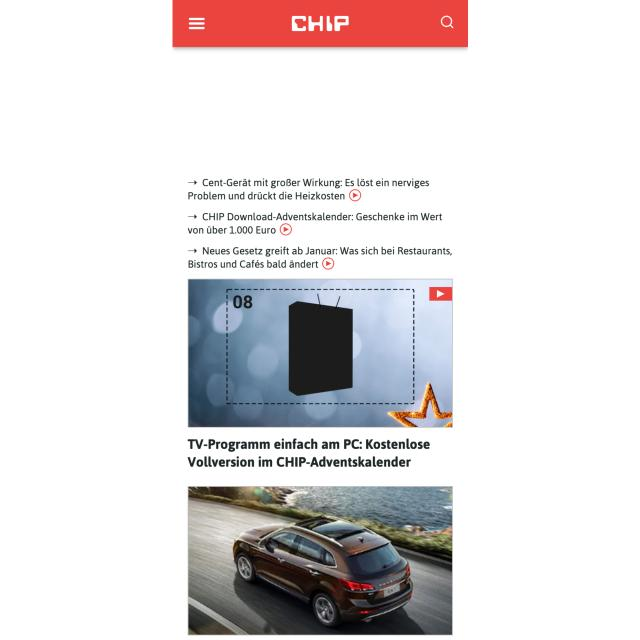logo: (289, 13, 354, 36)
navigation: (183, 14, 210, 35)
